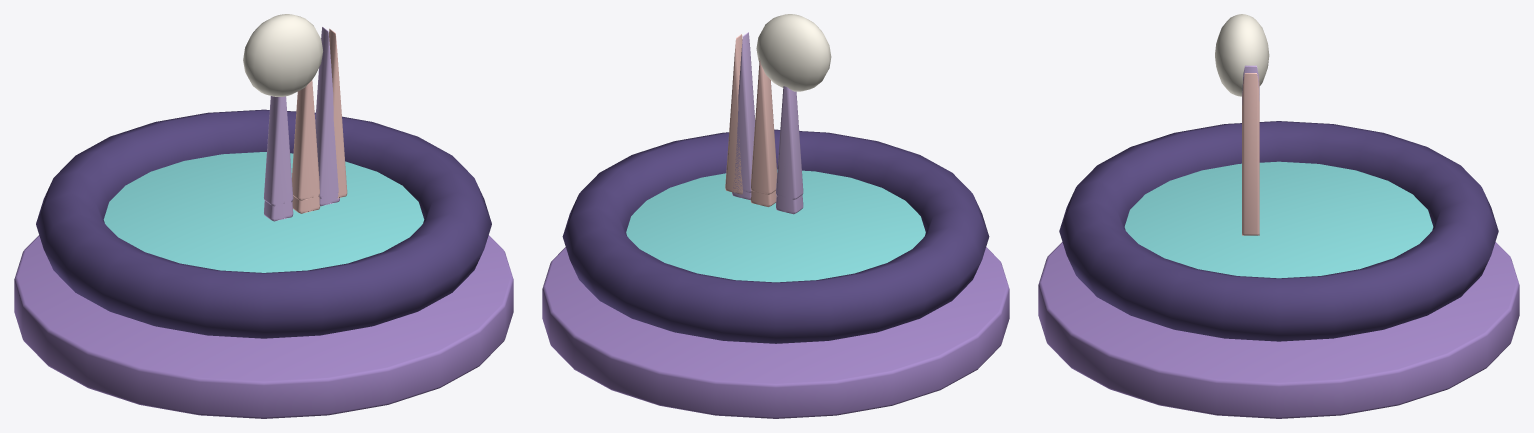
The model's file is wish_fountain.glb.
The picture shows the model from 3 angles, left to right: view 1: azimuth 30°, elevation 25°; view 2: azimuth 150°, elevation 25°; view 3: azimuth 270°, elevation 25°; orthographic projection. The views are drawn at different scales.
Visible parts, largest first — view 1: BasinInk, Foot.001, Water, FountainPearl, ShellRib_5, ShellRib_4, ShellRib_6, ShellRib_3, ShellRib_0, ShellRib_1, ShellRib_2; view 2: BasinInk, Foot.001, Water, FountainPearl, ShellRib_5, ShellRib_6, ShellRib_4, ShellRib_3, ShellRib_0, ShellRib_2, ShellRib_1; view 3: BasinInk, Foot.001, Water, FountainPearl, ShellRib_3.
Boxes of the visible parts, x1,y1,x2,y2 form: BasinInk: (36,109,491,338); Foot.001: (14,235,513,418); Water: (103,152,424,272); FountainPearl: (243,14,322,96); ShellRib_5: (292,80,319,200); ShellRib_4: (315,27,338,198); ShellRib_6: (263,96,293,206); ShellRib_3: (329,28,347,198); ShellRib_0: (264,97,293,221); ShellRib_1: (292,84,320,213); ShellRib_2: (319,78,339,206); BasinInk: (562,129,989,343); Foot.001: (542,247,1009,418); Water: (626,169,925,282); FountainPearl: (756,14,831,91); ShellRib_5: (751,58,777,194); ShellRib_6: (776,86,803,200); ShellRib_4: (733,32,755,192); ShellRib_3: (725,34,742,194); ShellRib_0: (776,94,803,214); ShellRib_2: (732,102,751,199); ShellRib_1: (750,92,776,207); BasinInk: (1059,121,1498,341); Foot.001: (1038,242,1519,418); Water: (1124,161,1433,278); FountainPearl: (1215,14,1269,96); ShellRib_3: (1242,73,1259,235).
Bounding box in the file's own units: 6 × 4.14 × 6.
